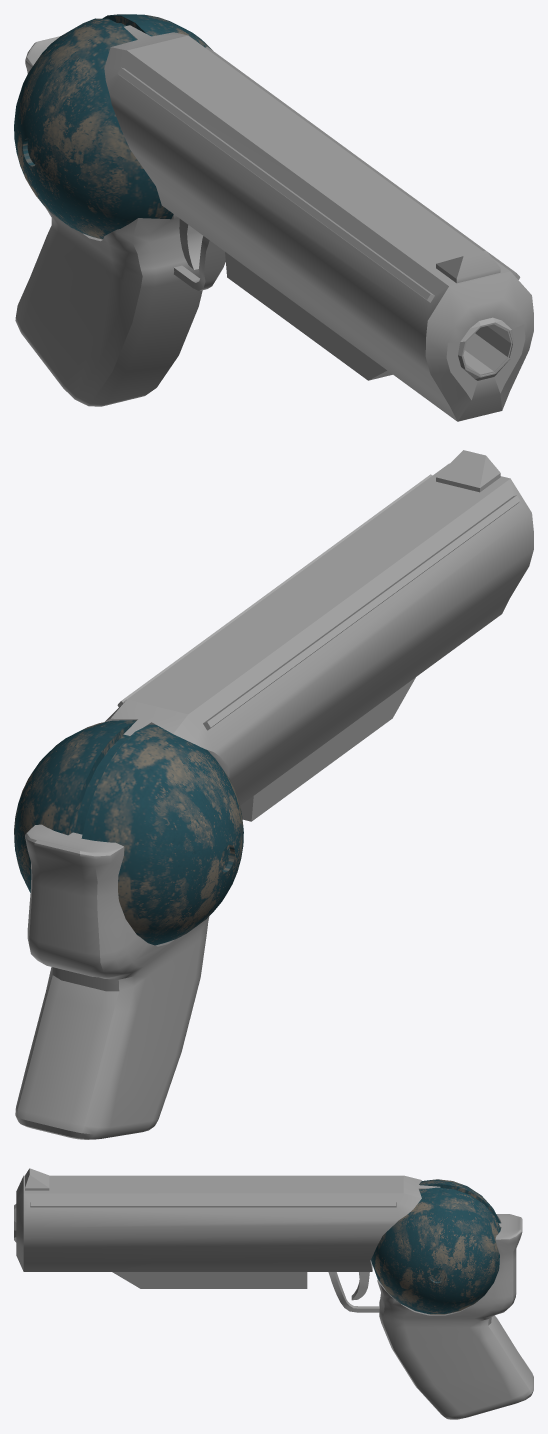
Rendered from Pistol_animation_01.fbx.
3 renders of one model, top to bottom at view 1: azimuth 30°, elevation 25°; view 2: azimuth 150°, elevation 25°; view 3: azimuth 270°, elevation 25°, orthographic. The views are drawn at different scales.
Visible parts, largest first — view 1: Gun_model, Battery, polySurface4; view 2: Gun_model, Battery; view 3: Gun_model, Battery.
Part boxes in pixels (x1,y1,x2,y2): Gun_model: (15, 25, 533, 421); Battery: (14, 14, 212, 239); polySurface4: (179, 219, 202, 269); Gun_model: (15, 450, 533, 1139); Battery: (14, 720, 243, 945); Gun_model: (14, 1168, 533, 1419); Battery: (371, 1179, 500, 1314).
Bounding box in the file's own units: 77.09 × 152 × 298.
Materials: 2 (1 with a texture image).
